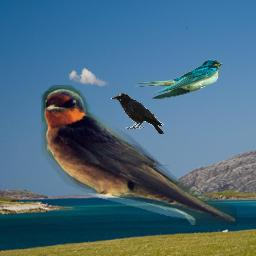Crow: (111, 93, 164, 134)
Swallow: (41, 85, 237, 225), (134, 59, 224, 99)
